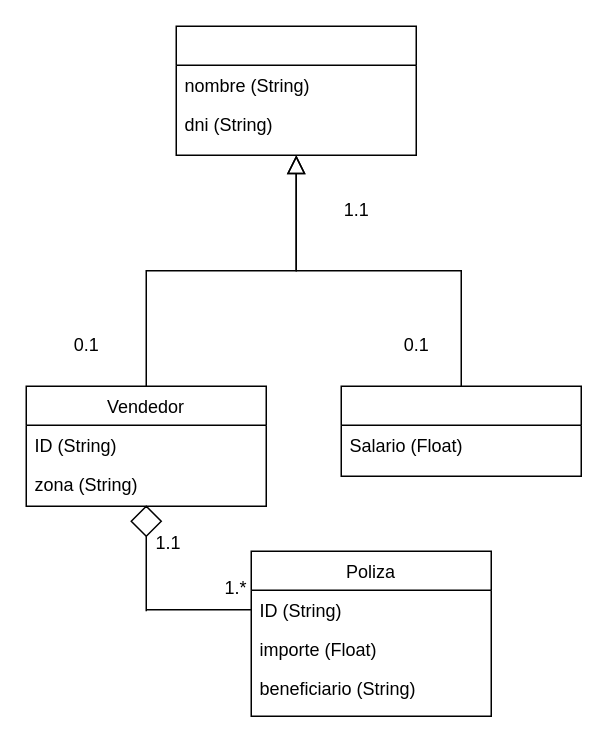
Image size: 608x743. Some labels were removed from this diagram. The shapes that lost their labels are listed below. From the top down, each one's box as (x1, y1, x2, y2) in pixels, then its label:
(175, 25, 416, 155): Empleado
(340, 385, 581, 476): Jefe
